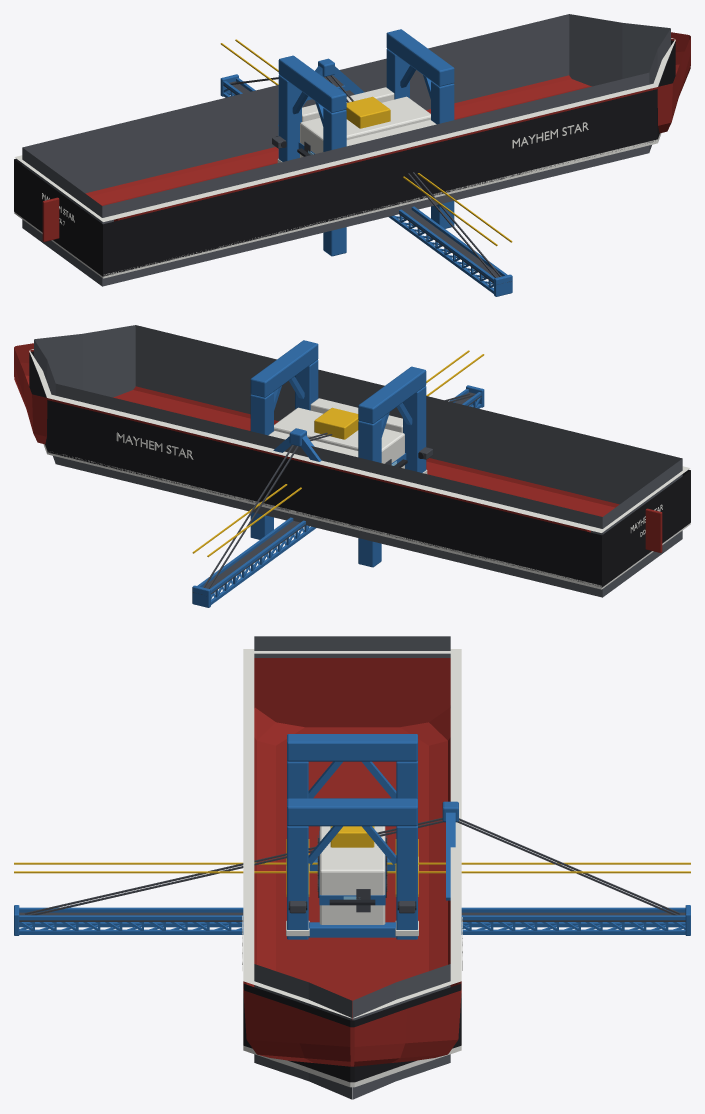
The model's file is PortKit.glb.
3 views of the same model, one above another, from view 1: azimuth 30°, elevation 25°; view 2: azimuth 150°, elevation 25°; view 3: azimuth 270°, elevation 25° (orthographic). The views are drawn at different scales.
Visible parts, largest first — view 1: Port_Hull__5A5E66, Port_Hull__1C1C20, Port_CranePortal__2E6FB0, Port_Hull__962823, Port_Hull__EBEBE6, Port_CraneBoom__2E6FB0, Port_CraneHouse__EBEBE6, Port_CraneBoom__464A52, Port_CranePortal__EBEBE6, Port_CraneTrolley__EBB91E, Port_CraneBoom__EBB91E; view 2: Port_Hull__5A5E66, Port_Hull__1C1C20, Port_CranePortal__2E6FB0, Port_Hull__962823, Port_Hull__EBEBE6, Port_CraneBoom__2E6FB0, Port_CraneHouse__EBEBE6, Port_CraneBoom__464A52, Port_CranePortal__EBEBE6, Port_CraneTrolley__EBB91E, Port_CraneBoom__EBB91E; view 3: Port_Hull__962823, Port_CranePortal__2E6FB0, Port_CraneBoom__2E6FB0, Port_Hull__EBEBE6, Port_Hull__5A5E66, Port_CraneBoom__464A52, Port_CraneHouse__EBEBE6, Port_CraneBoom__EBB91E, Port_Hull__1C1C20, Port_CraneTrolley__EBB91E.
Boxes of the visible parts, x1,y1,x2,y2 form: Port_Hull__5A5E66: (22,14,670,286); Port_Hull__1C1C20: (14,40,675,276); Port_CranePortal__2E6FB0: (278,29,454,256); Port_Hull__962823: (42,32,690,241); Port_Hull__EBEBE6: (14,38,675,278); Port_CraneBoom__2E6FB0: (220,58,512,296); Port_CraneHouse__EBEBE6: (300,96,430,157); Port_CraneBoom__464A52: (223,75,511,284); Port_CranePortal__EBEBE6: (277,87,436,162); Port_CraneTrolley__EBB91E: (346,96,390,128); Port_CraneBoom__EBB91E: (220,39,512,246); Port_Hull__5A5E66: (34,325,682,597); Port_Hull__1C1C20: (29,351,690,587); Port_CranePortal__2E6FB0: (250,340,426,567); Port_Hull__962823: (14,343,662,552); Port_Hull__EBEBE6: (29,349,690,589); Port_CraneBoom__2E6FB0: (192,385,484,607); Port_CraneHouse__EBEBE6: (274,407,404,468); Port_CraneBoom__464A52: (193,392,481,596); Port_CranePortal__EBEBE6: (268,398,427,473); Port_CraneTrolley__EBB91E: (314,407,358,439); Port_CraneBoom__EBB91E: (192,350,484,557); Port_Hull__962823: (243,658,461,1066); Port_CranePortal__2E6FB0: (287,734,417,939); Port_CraneBoom__2E6FB0: (14,801,690,935); Port_Hull__EBEBE6: (242,649,462,1087); Port_Hull__5A5E66: (254,636,450,1099); Port_CraneBoom__464A52: (19,817,685,921); Port_CraneHouse__EBEBE6: (319,826,385,924); Port_CraneBoom__EBB91E: (14,862,690,873); Port_Hull__1C1C20: (243,983,461,1082); Port_CraneTrolley__EBB91E: (330,826,374,847).
Size of the model in its own units: 168 by 39.55 by 124.
